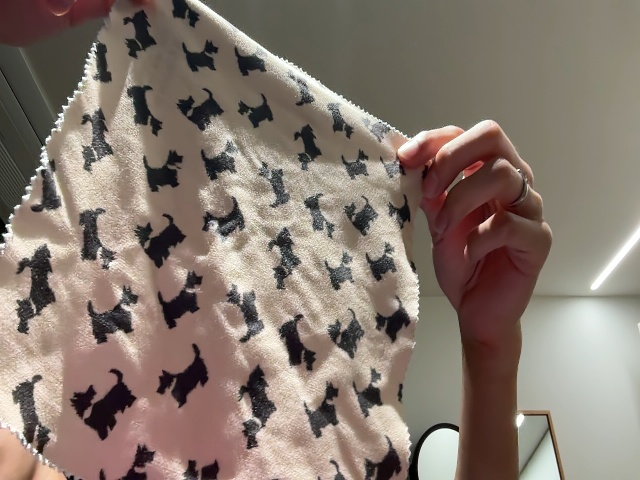towel: (1, 1, 432, 480)
